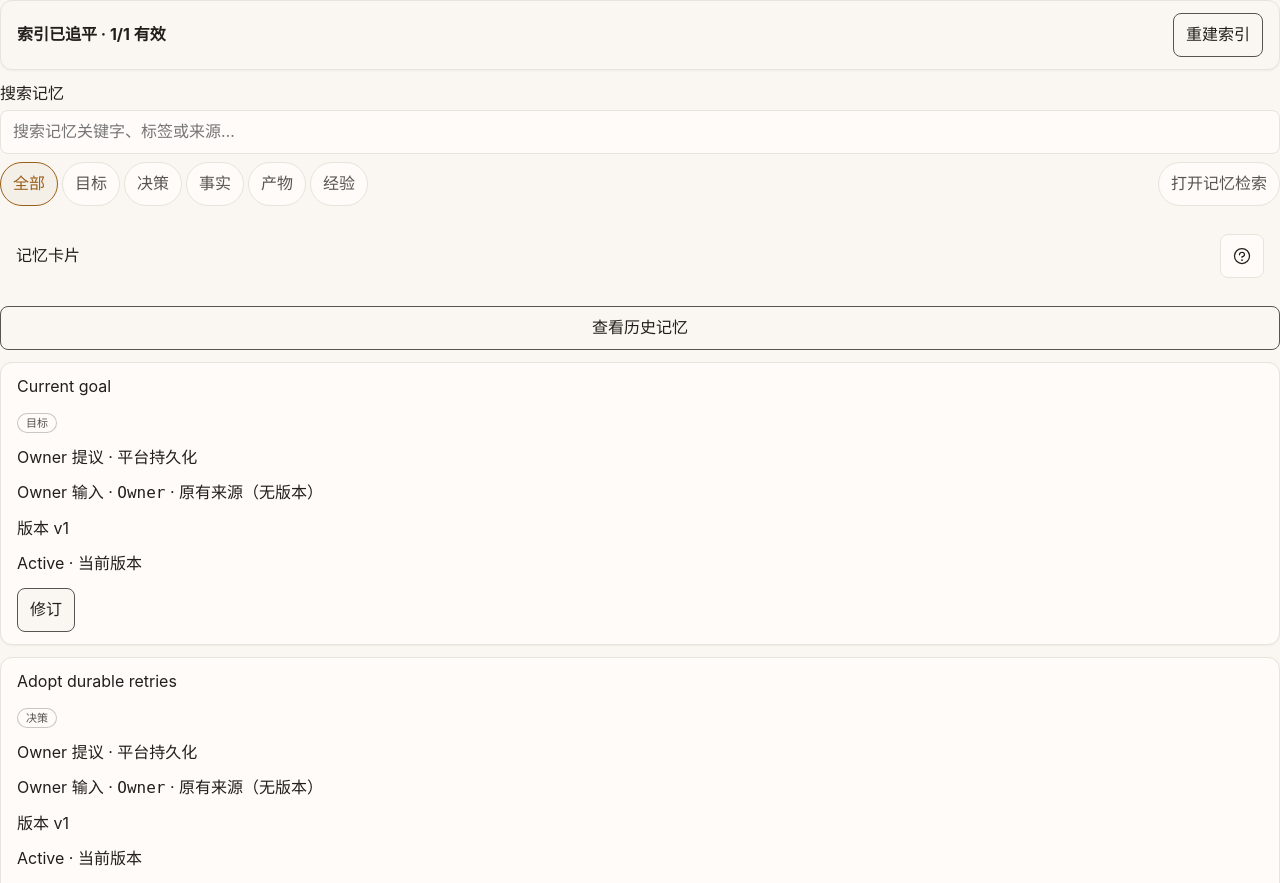
Test case: Shared Memory panel › leads the memory view with search, type chips, then the card list (U-08)
Expected: the heading "Current goal" is shown, [17, 376, 111, 396]
# 类型胶囊：切到决策只剩决策卡片，回全部恢复。
Click the button "决策" at (153, 184), box [124, 162, 182, 206]
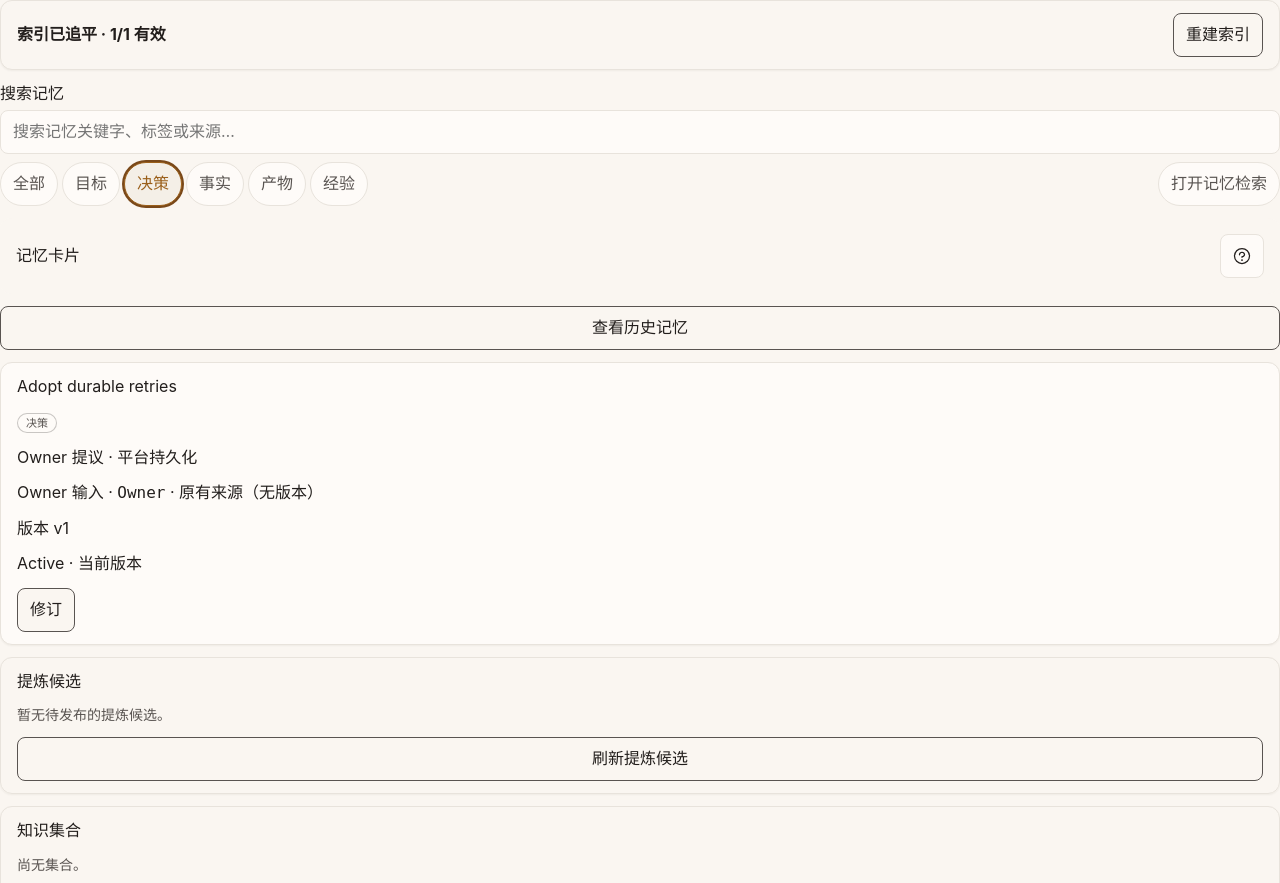
Expected: the heading "Adopt durable retries" is shown, [17, 376, 177, 396]
Expected: the heading "Current goal" is gone
Click the button "全部" at (29, 184), box [0, 162, 58, 206]
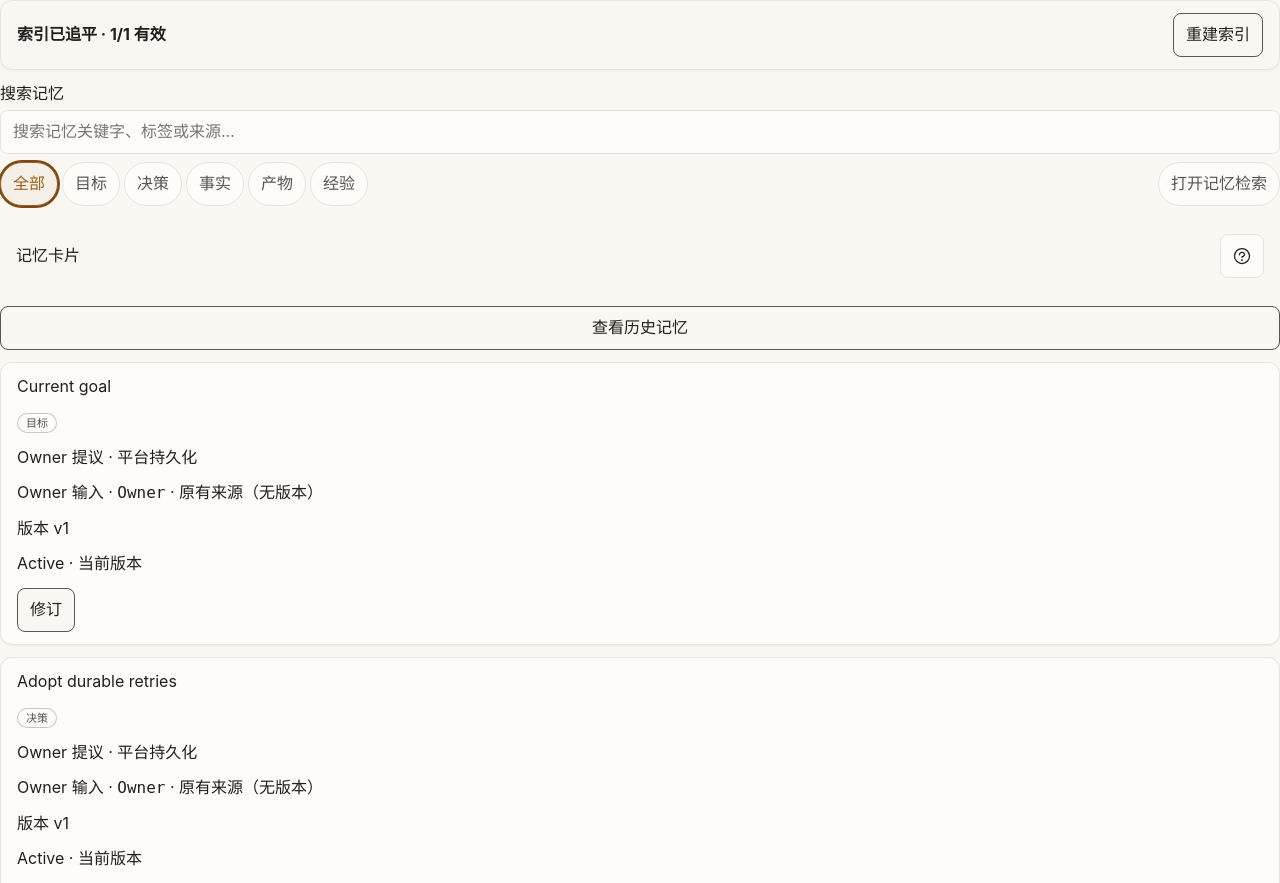
Expected: the heading "Current goal" is shown, [17, 376, 111, 396]
# 关键字过滤命中正文。
Type "durable" into the search field labelled "搜索记忆" at (640, 132), box [0, 110, 1279, 154]
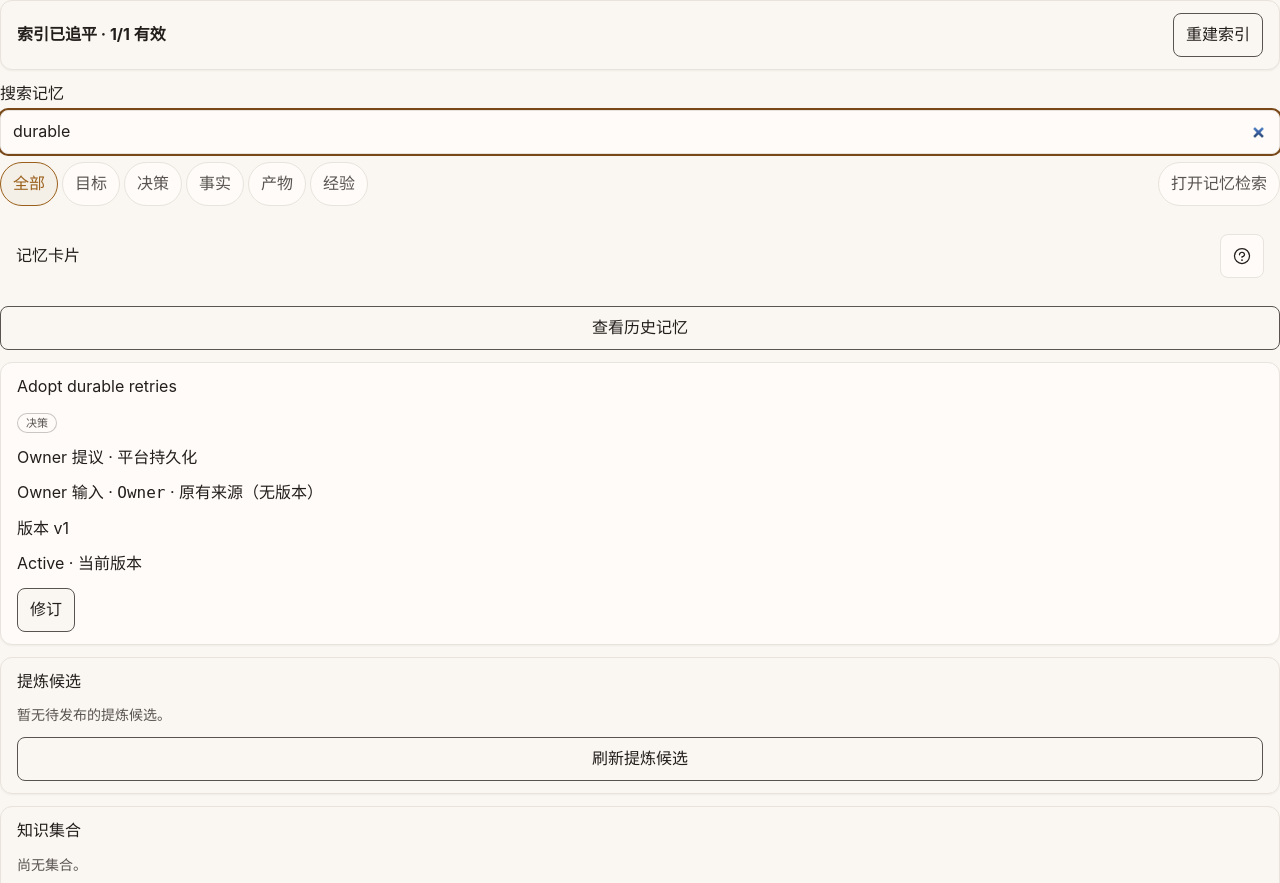
Expected: the heading "Adopt durable retries" is shown, [17, 376, 177, 396]
Expected: the heading "Current goal" is gone
